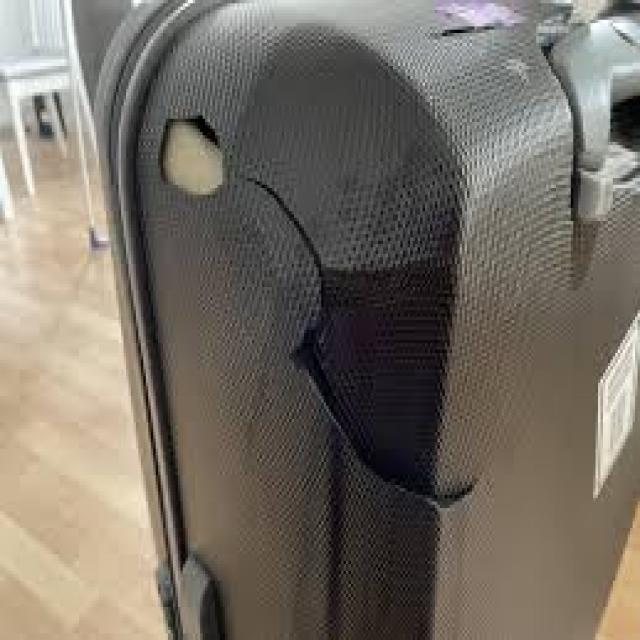Damage-bag: (241, 175, 474, 508), (160, 115, 237, 196)
